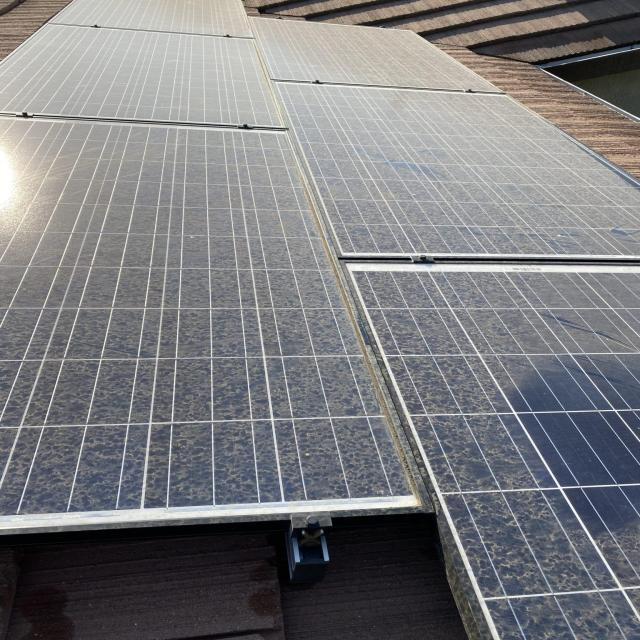soiled: (2, 1, 413, 527), (358, 271, 640, 640), (254, 8, 636, 262)
